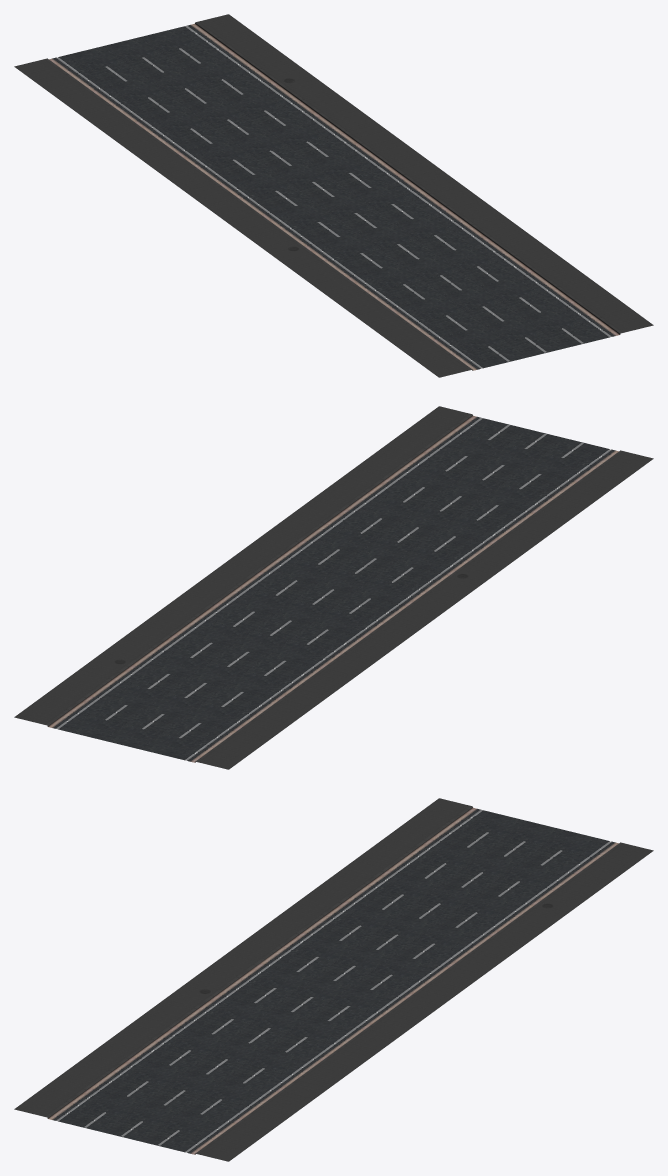
Rendered from or_city_road_4ways.fbx.
3 views of the same model, one above another, from view 1: azimuth 30°, elevation 25°; view 2: azimuth 150°, elevation 25°; view 3: azimuth 330°, elevation 25° (orthographic).
Parts seen in each view (by area): view 1: obj0; view 2: obj0; view 3: obj0.
Boxes of the visible parts, <box> form: obj0: <box>14,14,653,377</box>; obj0: <box>14,406,653,769</box>; obj0: <box>14,798,653,1161</box>.
Size of the model in its own units: 44.45 by 0.254 by 152.
